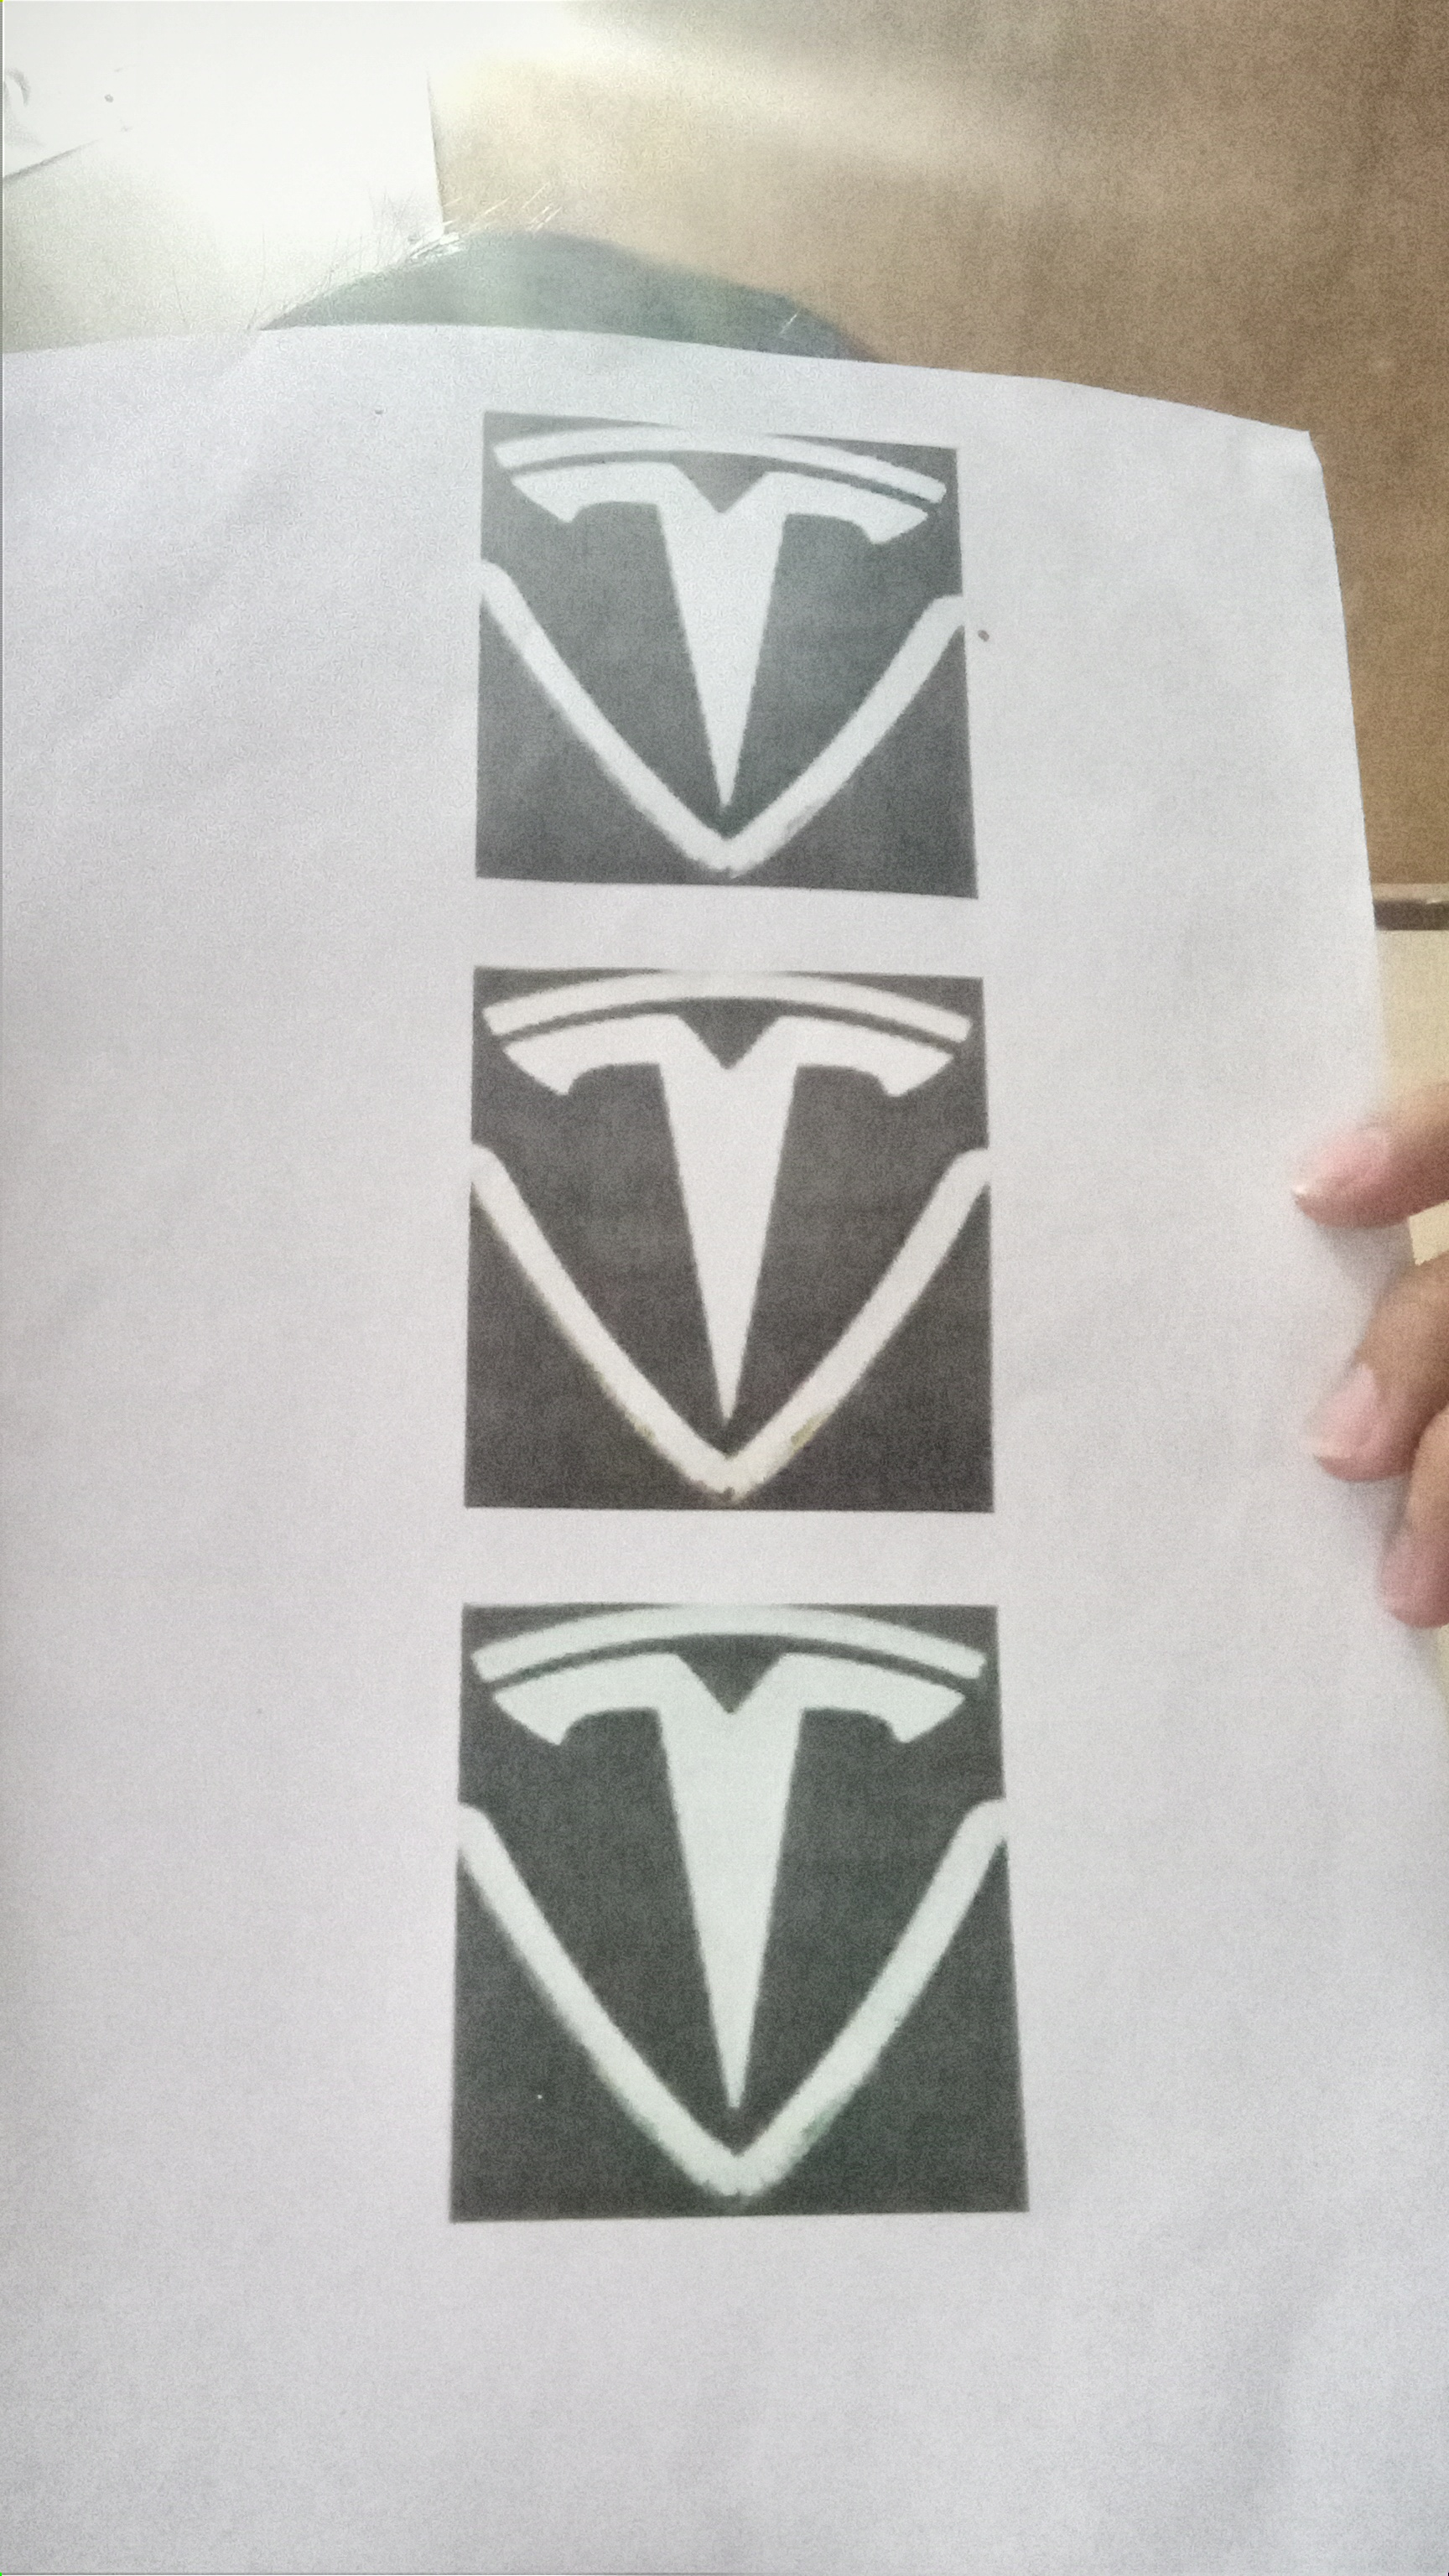Tesla: (449, 1605, 1040, 2203), (469, 964, 991, 1500), (476, 403, 961, 892)
